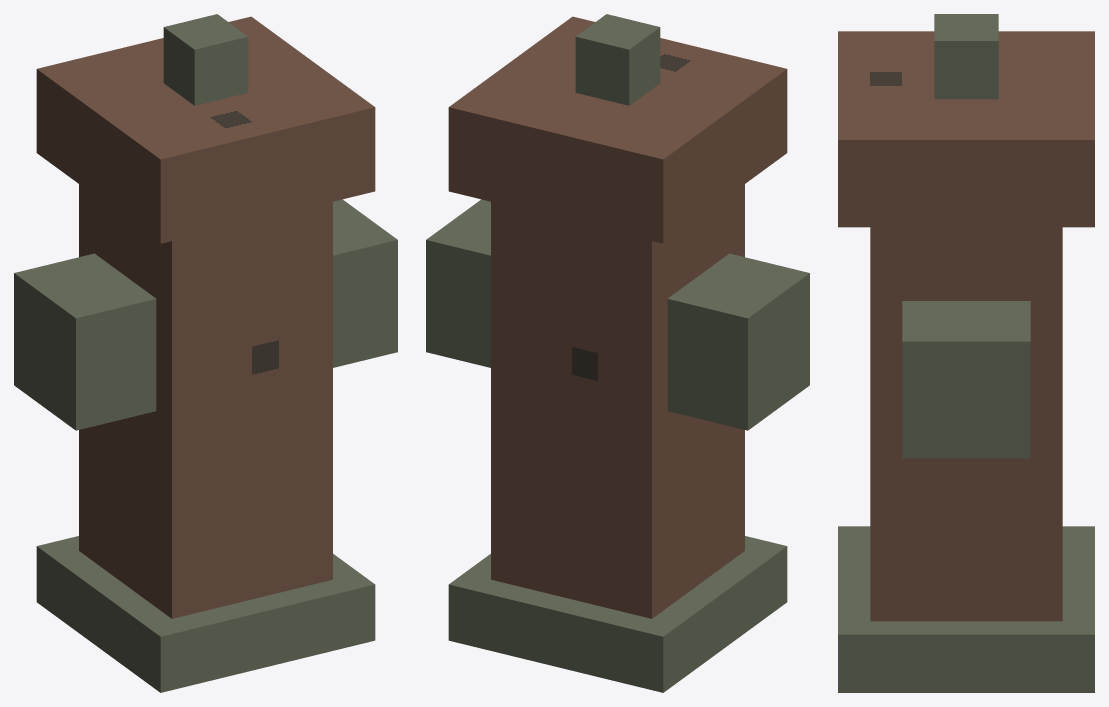
Rendered from fire_hydrant.gltf.
3 renders of one model, left to right at view 1: azimuth 30°, elevation 25°; view 2: azimuth 150°, elevation 25°; view 3: azimuth 270°, elevation 25°, orthographic. The views are drawn at different scales.
Parts seen in each view (by area): view 1: barrel, cap, hose_outlet (×2), foot, top_nut; view 2: barrel, cap, hose_outlet (×2), foot, top_nut; view 3: barrel, cap, foot, hose_outlet, top_nut.
Boxes of the visible parts, x1,y1,x2,y2 form: barrel: [79, 184, 332, 618]; cap: [36, 16, 375, 243]; hose_outlet (×2): [14, 199, 397, 430]; foot: [36, 536, 375, 692]; top_nut: [163, 14, 248, 105]; barrel: [491, 184, 744, 618]; cap: [448, 16, 787, 243]; hose_outlet (×2): [426, 199, 809, 430]; foot: [448, 536, 787, 692]; top_nut: [575, 14, 660, 105]; barrel: [870, 227, 1062, 621]; cap: [838, 31, 1094, 227]; foot: [838, 526, 1094, 692]; hose_outlet: [902, 301, 1030, 458]; top_nut: [934, 14, 998, 99].
Size of the model in its own units: 0.75 by 1.31 by 0.5.
2 materials, 2 textured.
